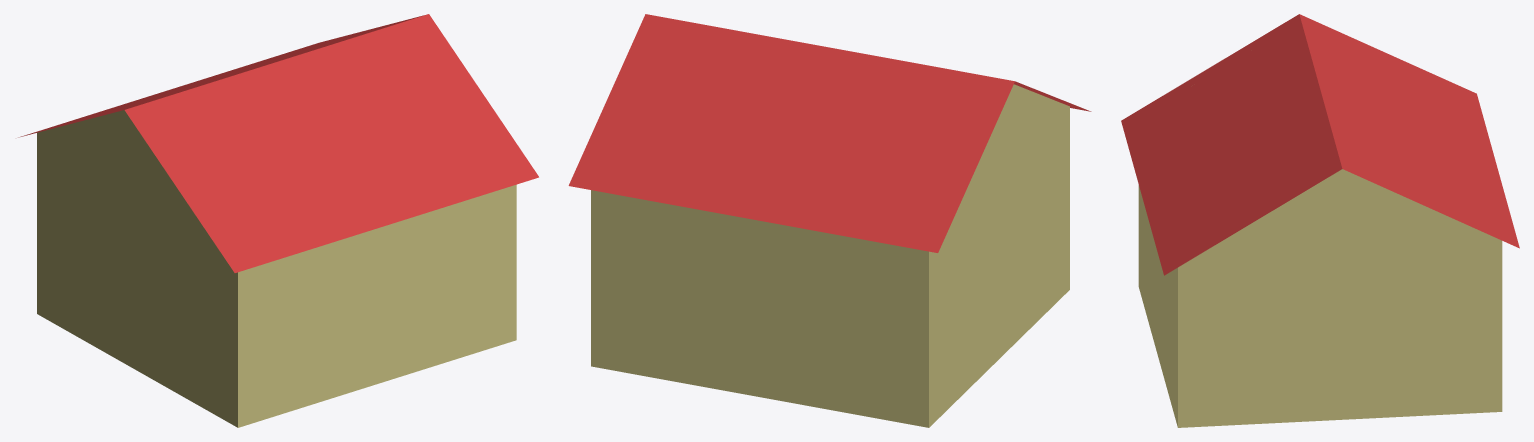
3 views of the same model, side by side, from view 1: azimuth 30°, elevation 25°; view 2: azimuth 150°, elevation 25°; view 3: azimuth 270°, elevation 25° (orthographic). The views are drawn at different scales.
Size of the model in its own units: 19.45 by 18.99 by 13.53.
